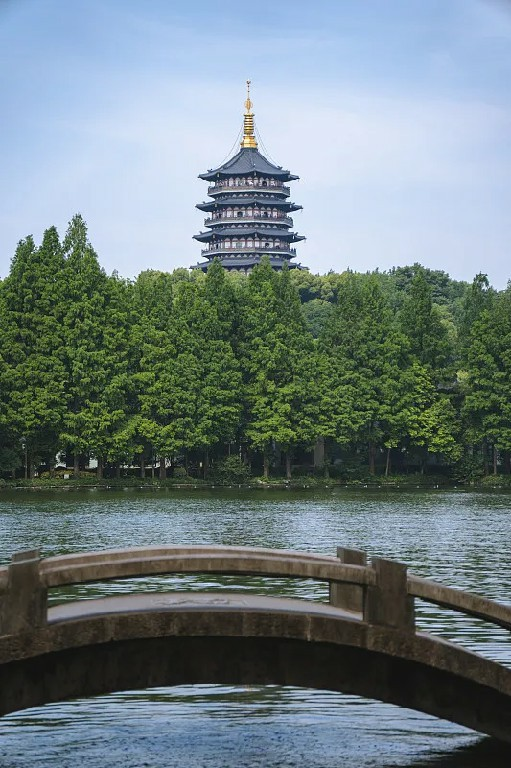Leifeng: (190, 78, 309, 279)
